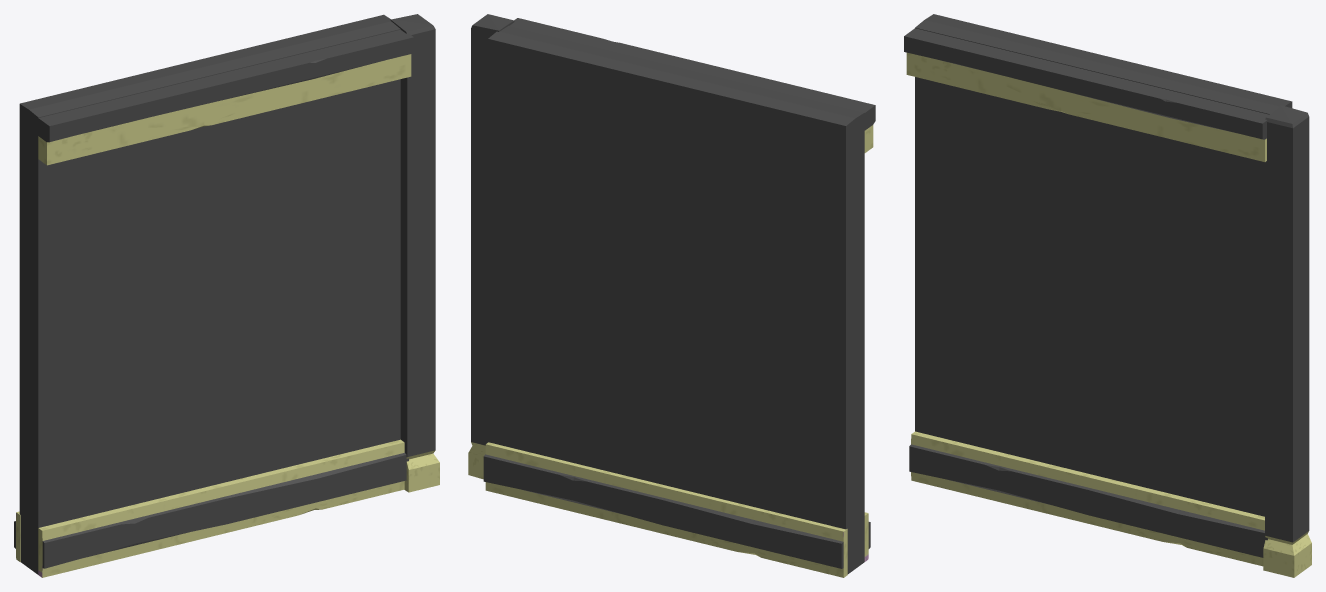
File: Wall_01_Pillar.fbx
3 renders of one model, left to right at view 1: azimuth 30°, elevation 25°; view 2: azimuth 150°, elevation 25°; view 3: azimuth 330°, elevation 25°, orthographic.
Visible parts, largest first — view 1: SM_Bld_Wall_Trim_09.002; view 2: SM_Bld_Wall_Trim_09.002; view 3: SM_Bld_Wall_Trim_09.002.
Boxes of the visible parts, x1,y1,x2,y2 form: SM_Bld_Wall_Trim_09.002: (14,14,439,577); SM_Bld_Wall_Trim_09.002: (468,14,875,577); SM_Bld_Wall_Trim_09.002: (904,14,1311,577).
Bounding box in the file's own units: 270 × 302 × 41.59.
